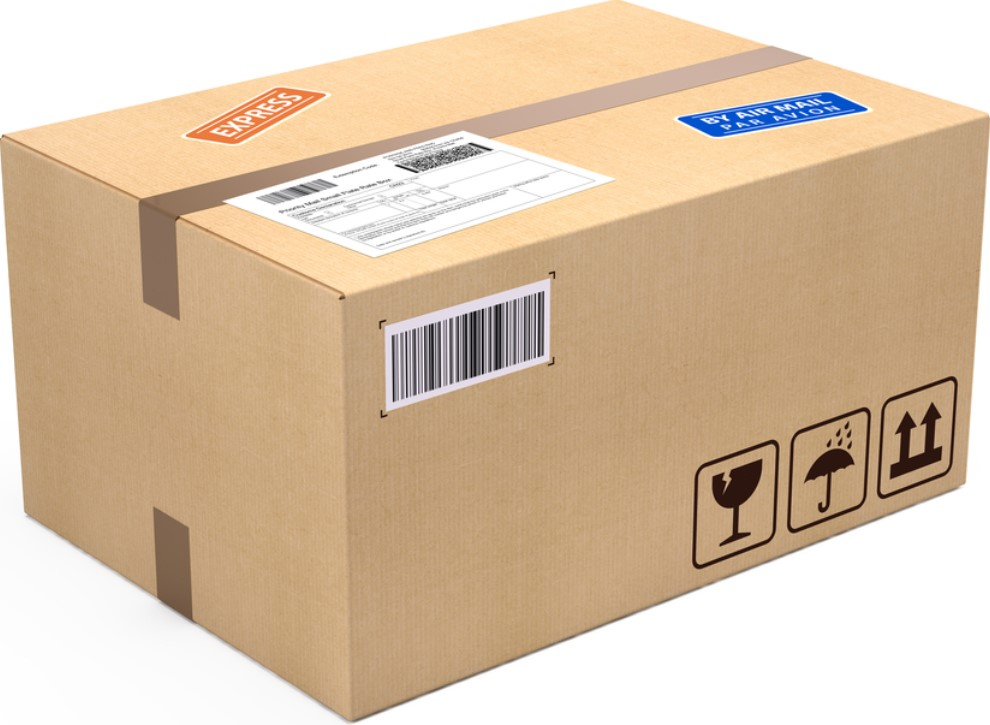stock: (3, 4, 990, 720)
